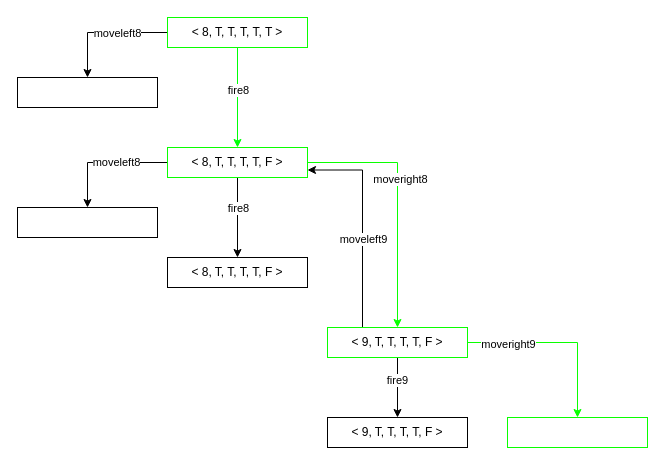
The diagram is 665 pixels wide and 465 high, and some of its shapes have lost their labels. The shapes that lost their labels are listed below. From the top down, each one's box as (x1, y1, x2, y2) in pixels, then its label:
(16, 76, 158, 108): < 7, T, T, T, T, T >
(16, 206, 158, 238): < 7, T, T, T, T, F >
(506, 416, 648, 448): < 10, T, T, T, T, F >
